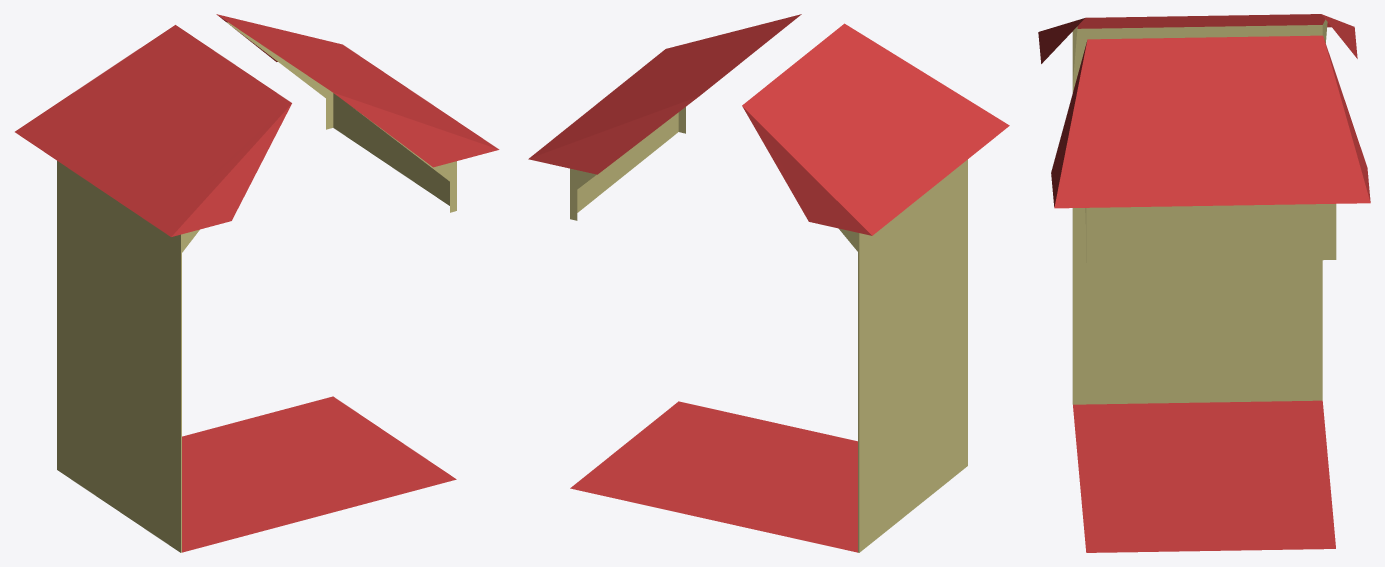
3 renders of one model, left to right at view 1: azimuth 30°, elevation 25°; view 2: azimuth 150°, elevation 25°; view 3: azimuth 270°, elevation 25°, orthographic. The views are drawn at different scales.
Visible parts, largest first — view 1: group_5, group_3, group_6, group_4; view 2: group_3, group_5, group_6, group_4; view 3: group_5, group_3, group_6, group_4.
Part boxes in pixels (x1,y1,x2,y2): group_5: (57, 22, 456, 552); group_3: (15, 14, 499, 236); group_6: (182, 396, 456, 552); group_4: (172, 36, 429, 236); group_3: (528, 14, 1009, 235); group_5: (570, 107, 967, 552); group_6: (570, 401, 857, 552); group_4: (540, 108, 867, 233); group_5: (1072, 19, 1336, 404); group_3: (1038, 14, 1370, 208); group_6: (1073, 400, 1335, 552); group_4: (1039, 16, 1368, 189).
Bounding box in the file's own units: 9.68 × 7.5 × 11.16.
